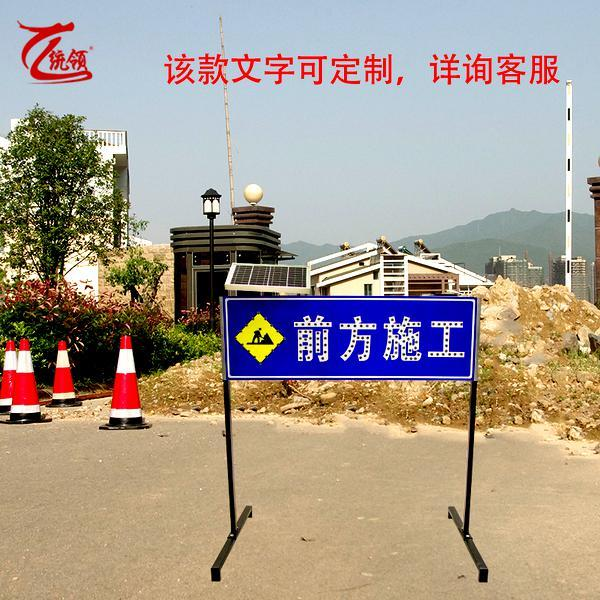sign: (224, 301, 474, 378)
